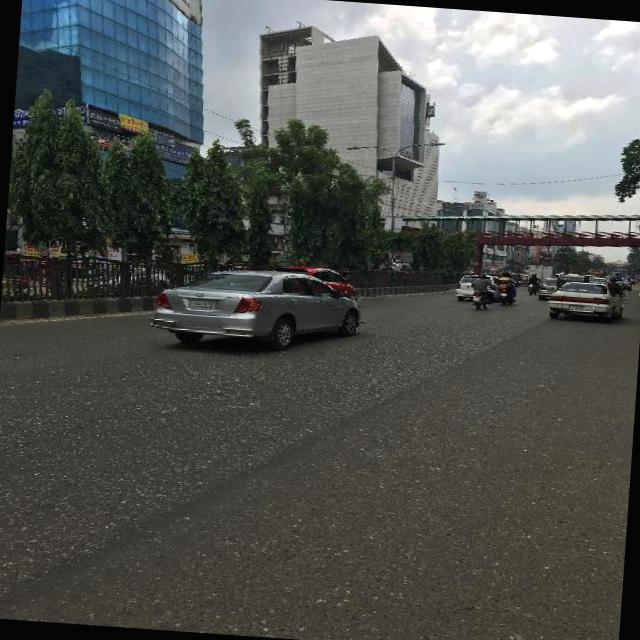bus: (483, 263, 506, 274), (588, 267, 608, 277), (607, 270, 621, 277)
car: (148, 262, 372, 354), (546, 280, 626, 323), (270, 262, 358, 300), (457, 270, 502, 302), (540, 276, 558, 300), (516, 272, 530, 286), (622, 278, 633, 290), (590, 277, 608, 284)
motorcycle: (469, 272, 496, 310), (495, 270, 519, 306), (560, 272, 590, 292), (528, 272, 542, 294)
truck: (526, 262, 558, 288)
